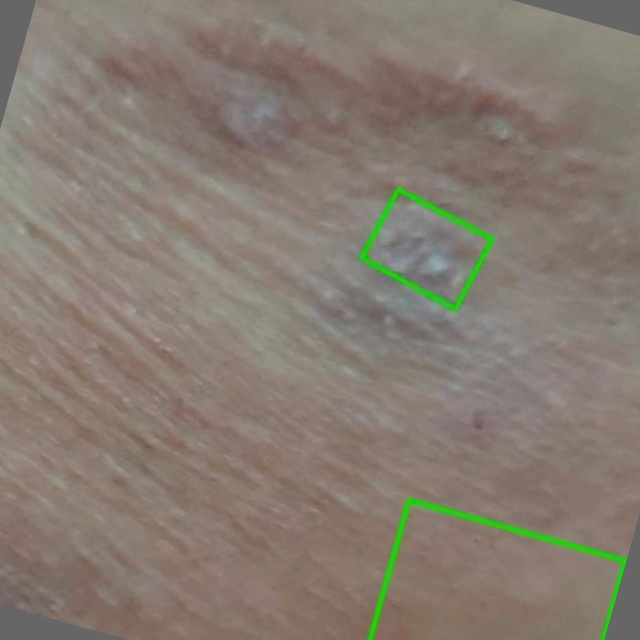Tinea Corporis: (360, 189, 491, 308)
